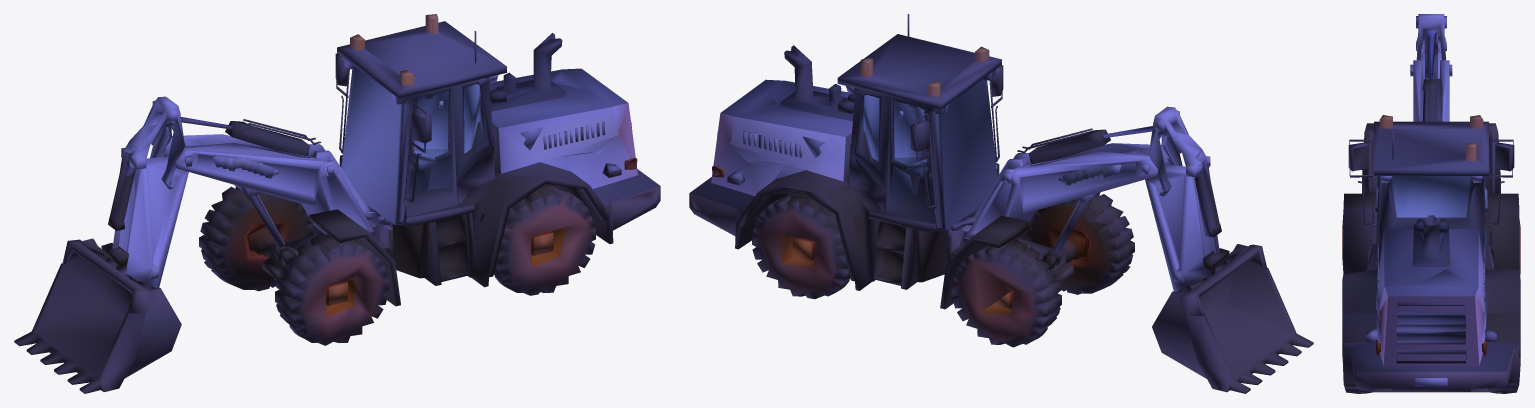
File: model.progressive.glb
3 renders of one model, left to right at view 1: azimuth 30°, elevation 25°; view 2: azimuth 150°, elevation 25°; view 3: azimuth 270°, elevation 25°, orthographic. The views are drawn at different scales.
Visible parts, largest first — view 1: material; view 2: material; view 3: material.
Boxes of the visible parts, left/top/right/bottom form: material: left=14, top=14, right=660, bottom=393; material: left=689, top=14, right=1313, bottom=393; material: left=1342, top=14, right=1520, bottom=393.
Size of the model in its own units: 1.89 by 0.8084 by 0.5486.
1 material, 1 textured.
